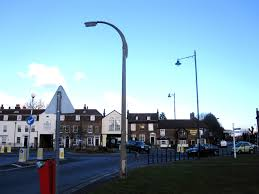light_pole: (116, 30, 134, 179), (190, 52, 206, 158)
